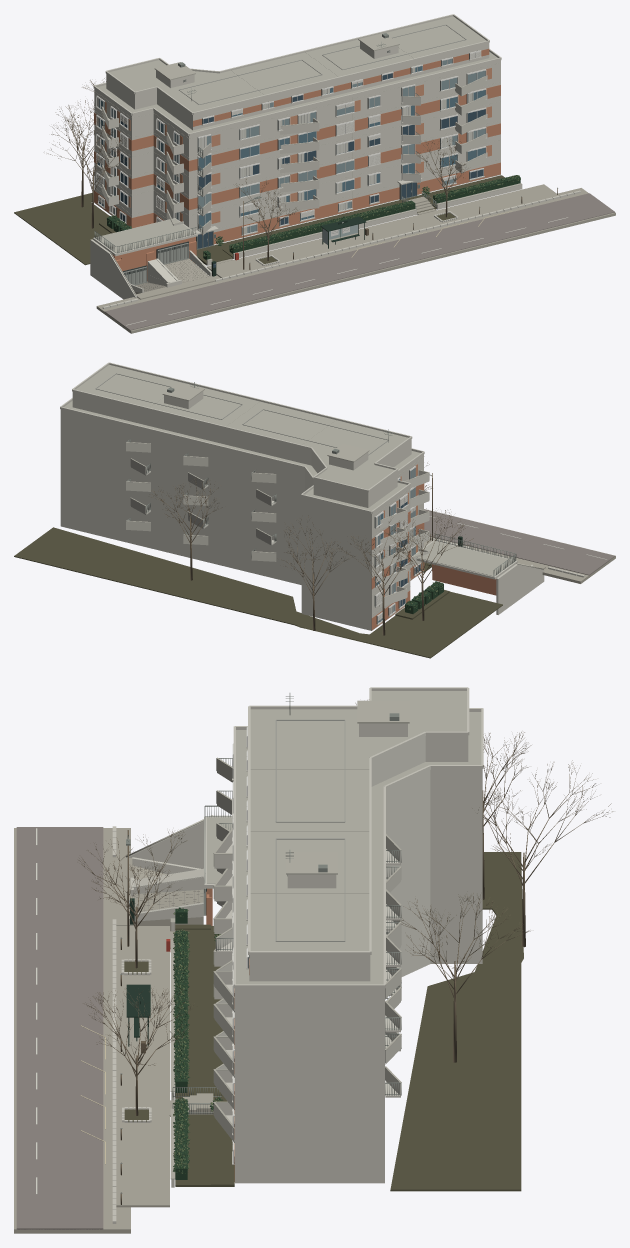
The model's file is villa-colbert.glb.
The picture shows the model from 3 angles, top to bottom: view 1: azimuth 30°, elevation 25°; view 2: azimuth 150°, elevation 25°; view 3: azimuth 270°, elevation 25°; orthographic projection. The views are drawn at different scales.
Parts seen in each view (by area): view 1: Web_enduit, Web_toit, Web_asphalte, Web_pavage, Web_saumon, Web_cadres, Web_terre, Web_couronnement, Web_tronc, Web_feuille4, Web_vitre2, Web_vitre1 (+12 smaller); view 2: Web_enduit, Web_terre, Web_toit, Web_asphalte, Web_tronc, Web_couronnement, Web_saumon, Web_cadres, Web_metal, Web_pavage, Web_etancheite, Web_feuille4; view 3: Web_enduit, Web_toit, Web_terre, Web_asphalte, Web_pavage, Web_tronc, Web_couronnement, Web_feuille4, Web_metal, Web_etancheite, Web_cadres, Web_bus (+3 smaller).
Part boxes in pixels (<box>): Web_enduit: <box>90,14,580,308</box>; Web_toit: <box>96,16,497,252</box>; Web_asphalte: <box>104,193,614,330</box>; Web_pavage: <box>96,184,615,333</box>; Web_saumon: <box>94,48,500,281</box>; Web_cadres: <box>96,50,486,264</box>; Web_terre: <box>14,175,504,265</box>; Web_couronnement: <box>94,33,522,296</box>; Web_tronc: <box>47,78,557,269</box>; Web_feuille4: <box>107,175,520,260</box>; Web_vitre2: <box>111,58,485,233</box>; Web_vitre1: <box>97,66,485,228</box>; Web_enduit: <box>60,362,584,630</box>; Web_terre: <box>14,527,502,658</box>; Web_toit: <box>64,364,513,576</box>; Web_asphalte: <box>424,509,614,575</box>; Web_tronc: <box>151,462,473,635</box>; Web_couronnement: <box>126,382,543,619</box>; Web_saumon: <box>371,483,496,629</box>; Web_cadres: <box>375,466,420,624</box>; Web_metal: <box>127,382,516,576</box>; Web_pavage: <box>424,509,615,583</box>; Web_etancheite: <box>95,373,388,455</box>; Web_feuille4: <box>405,581,443,613</box>; Web_enduit: <box>112,687,483,1223</box>; Web_toit: <box>207,691,481,984</box>; Web_terre: <box>124,852,523,1191</box>; Web_asphalte: <box>16,827,103,1229</box>; Web_pavage: <box>14,828,213,1233</box>; Web_tronc: <box>78,700,613,1204</box>; Web_couronnement: <box>126,700,409,1179</box>; Web_feuille4: <box>173,907,222,1179</box>; Web_metal: <box>120,693,401,1193</box>; Web_etancheite: <box>275,719,345,941</box>; Web_cadres: <box>129,726,248,1163</box>; Web_bus: <box>126,898,150,1046</box>.
Size of the model in its own units: 69 by 21.75 by 43.74.
